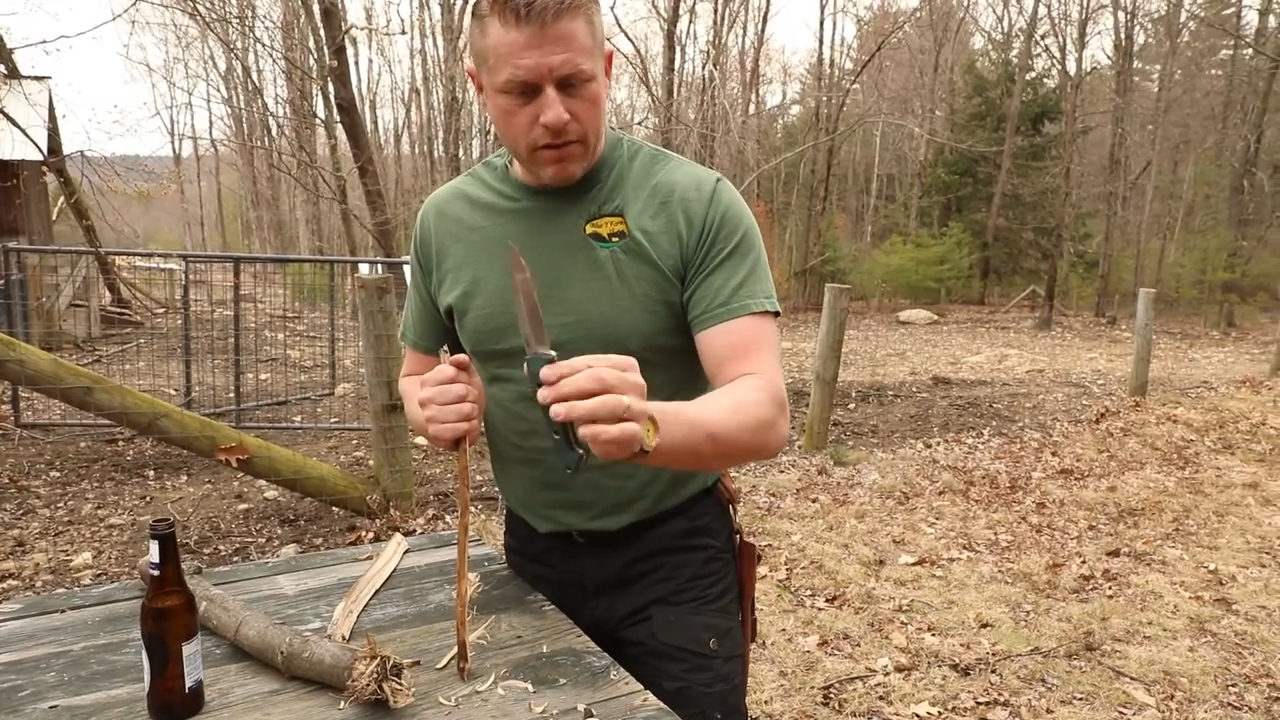knife: (489, 221, 618, 443)
